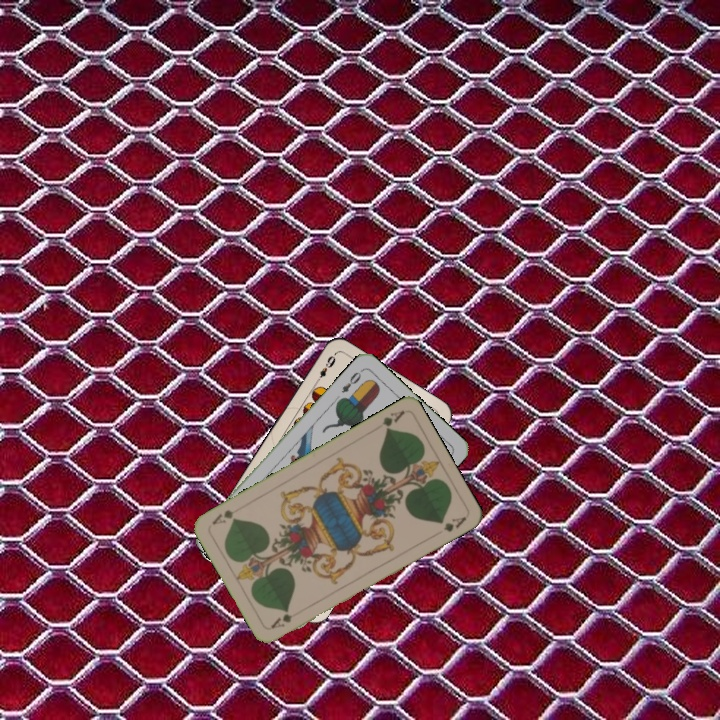E9: (311, 350, 338, 386)
EO: (337, 365, 366, 396)
GA: (267, 606, 304, 632), (378, 406, 407, 434)
